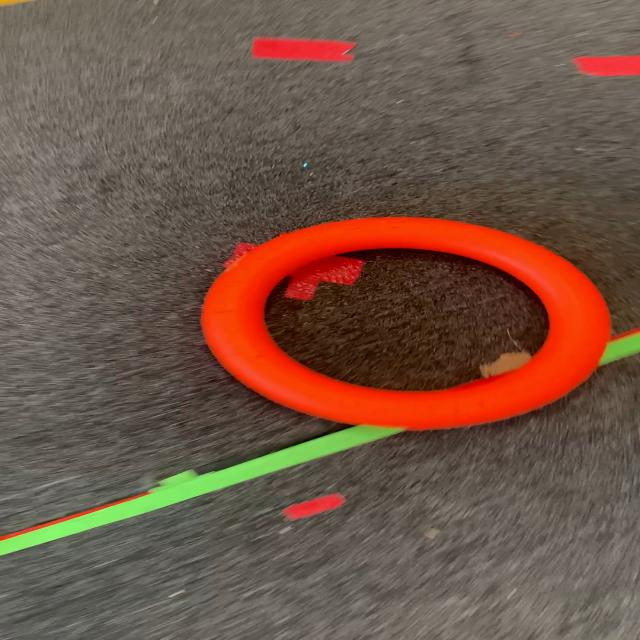notes: (202, 219, 608, 429)
